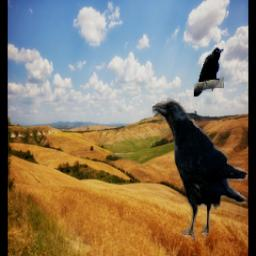Crow: (152, 98, 247, 242), (194, 48, 224, 98)
